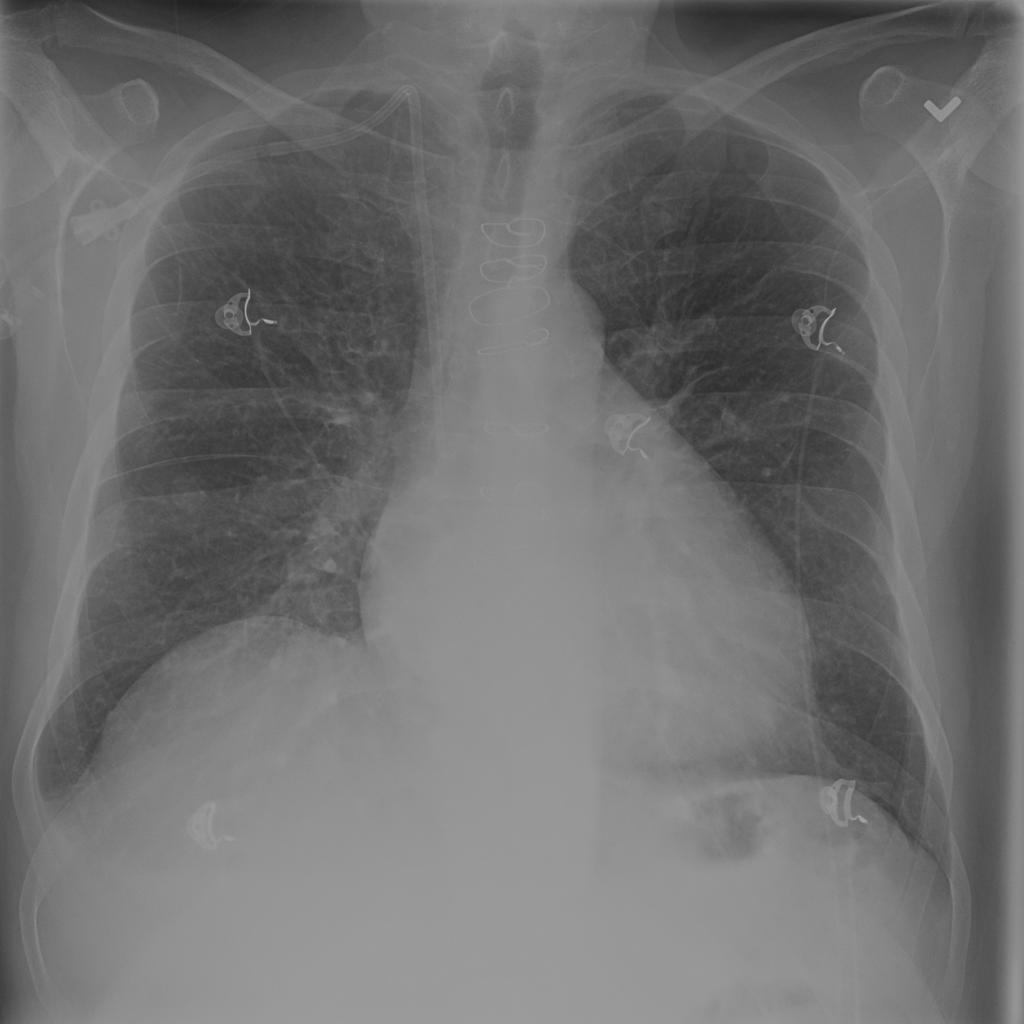nodule: (153, 458, 230, 522)
